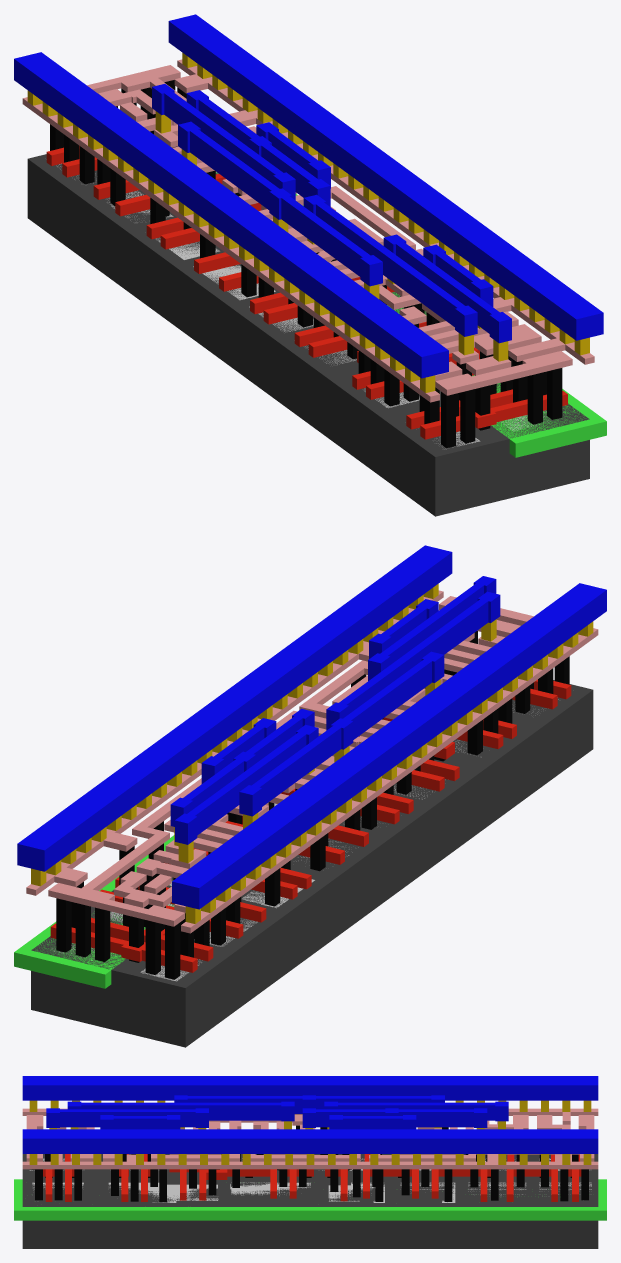
Rendered from sky130_fd_sc_hd__fah_1.obj.
The picture shows the model from 3 angles, top to bottom: view 1: azimuth 30°, elevation 25°; view 2: azimuth 150°, elevation 25°; view 3: azimuth 270°, elevation 25°; orthographic projection. The views are drawn at different scales.
Visible parts, largest first — view 1: metal1, subs, li, licon, mcon, poly, nwell, diff; view 2: metal1, subs, li, licon, mcon, poly, nwell, diff; view 3: metal1, subs, li, nwell, licon, poly, mcon, tap.
Part boxes in pixels (x1=…): metal1: x1=14, y1=14, x2=603, y2=378; subs: x1=27, y1=154, x2=589, y2=516; li: x1=22, y1=59, x2=594, y2=402; licon: x1=50, y1=80, x2=562, y2=448; mcon: x1=27, y1=52, x2=589, y2=392; poly: x1=46, y1=146, x2=567, y2=439; nwell: x1=216, y1=172, x2=606, y2=457; diff: x1=56, y1=163, x2=480, y2=449; metal1: x1=17, y1=545, x2=606, y2=909; subs: x1=31, y1=680, x2=593, y2=1047; li: x1=26, y1=590, x2=598, y2=933; licon: x1=56, y1=631, x2=569, y2=979; mcon: x1=31, y1=583, x2=593, y2=923; poly: x1=50, y1=679, x2=571, y2=972; nwell: x1=14, y1=835, x2=174, y2=988; diff: x1=140, y1=699, x2=558, y2=981; metal1: x1=22, y1=1076, x2=598, y2=1153; subs: x1=22, y1=1154, x2=598, y2=1248; li: x1=22, y1=1108, x2=598, y2=1169; nwell: x1=14, y1=1179, x2=606, y2=1220; licon: x1=32, y1=1125, x2=588, y2=1201; poly: x1=43, y1=1154, x2=581, y2=1201; mcon: x1=29, y1=1100, x2=591, y2=1164; tap: x1=32, y1=1182, x2=591, y2=1202.
Bounding box in the file's own units: 3.2 × 2.74 × 12.8.
